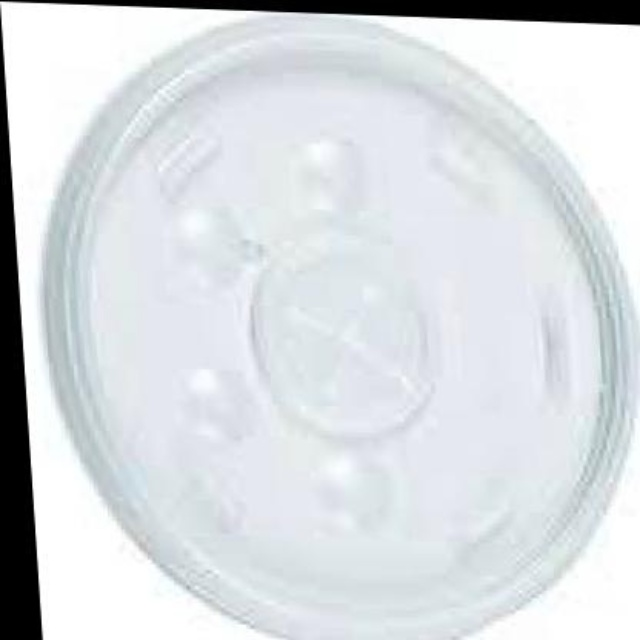trash: (43, 15, 638, 638)
